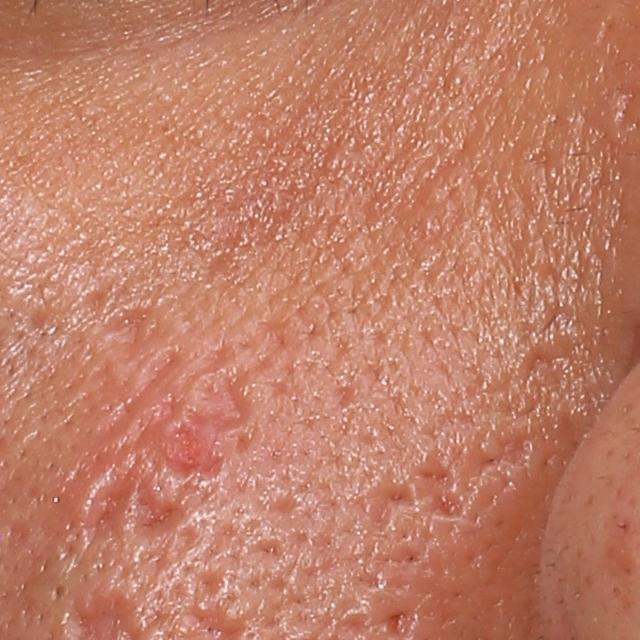atrophic_scar: (360, 414, 549, 531), (145, 371, 249, 477), (83, 467, 133, 543), (135, 486, 198, 544), (518, 344, 574, 385), (110, 307, 156, 346)
